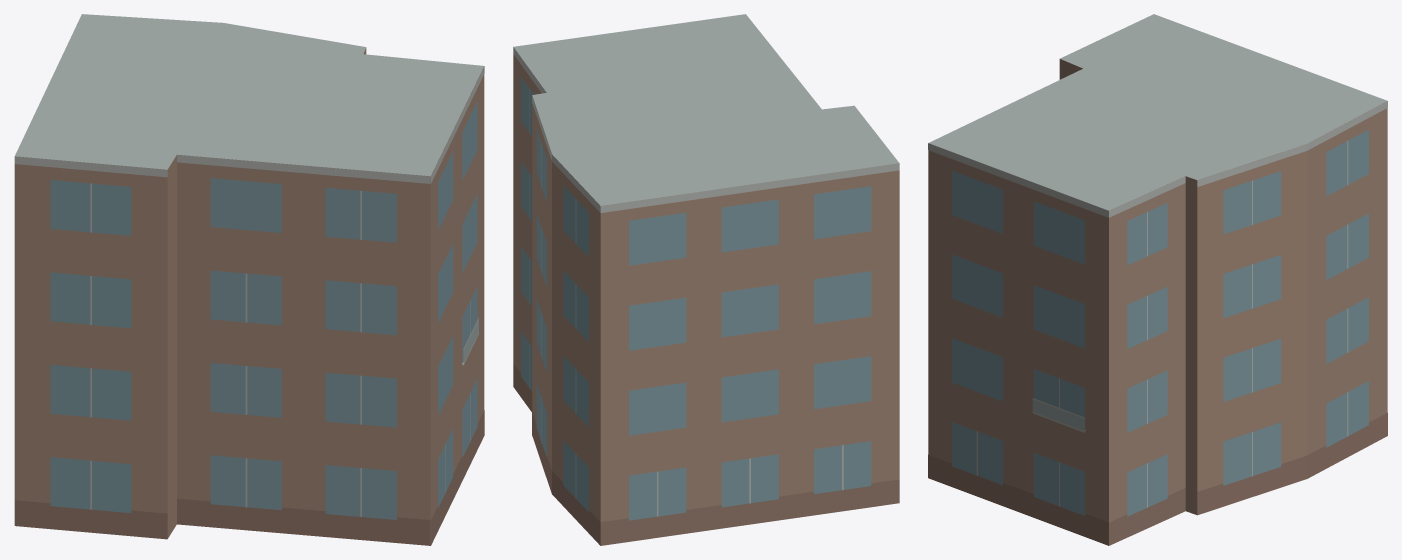
File: survey-upis-32965162.glb
The picture shows the model from 3 angles, left to right: view 1: azimuth 30°, elevation 25°; view 2: azimuth 150°, elevation 25°; view 3: azimuth 270°, elevation 25°; orthographic projection. The views are drawn at different scales.
Visible parts, largest first — view 1: survey-upis-32965162.tmp; view 2: survey-upis-32965162.tmp; view 3: survey-upis-32965162.tmp.
Part boxes in pixels (bbox=[...]): survey-upis-32965162.tmp: bbox=[14, 14, 484, 545]; survey-upis-32965162.tmp: bbox=[513, 14, 899, 545]; survey-upis-32965162.tmp: bbox=[928, 14, 1387, 545].
Bounding box in the file's own units: 14.75 × 11.7 × 14.55.
